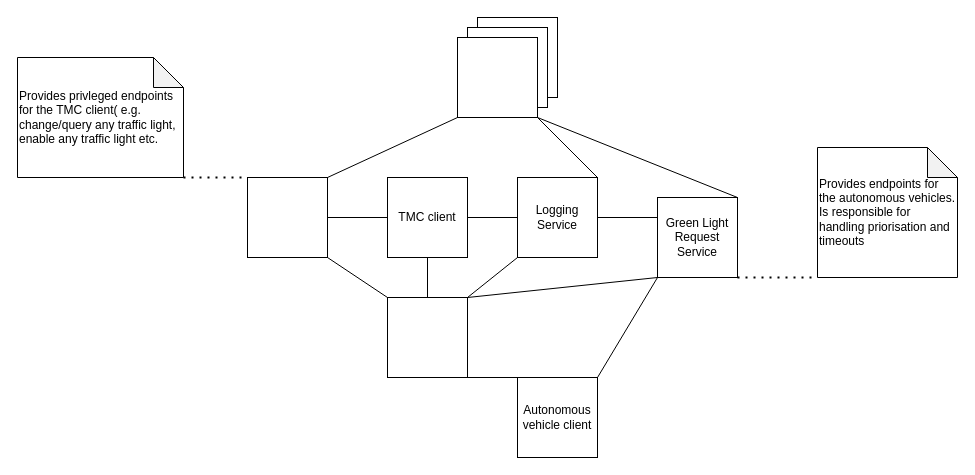
Some shapes in this 975 by 475 pixel diagram are drawn without their labels. Each missing label, with the box of its shape:
Authentication Service: (386, 296, 468, 378)
Intersection Service: (456, 36, 538, 118)
Meta Intersection Service: (246, 176, 328, 258)
